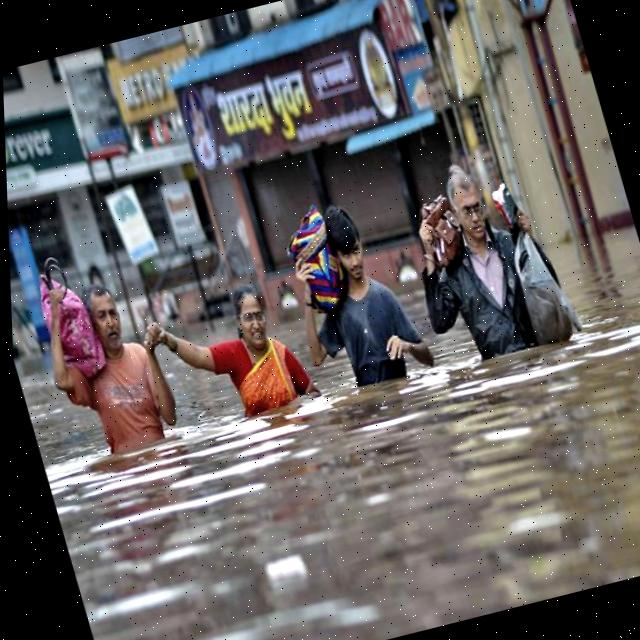civilian: (375, 125, 600, 392), (8, 208, 187, 487), (260, 179, 435, 414), (140, 248, 316, 444)
